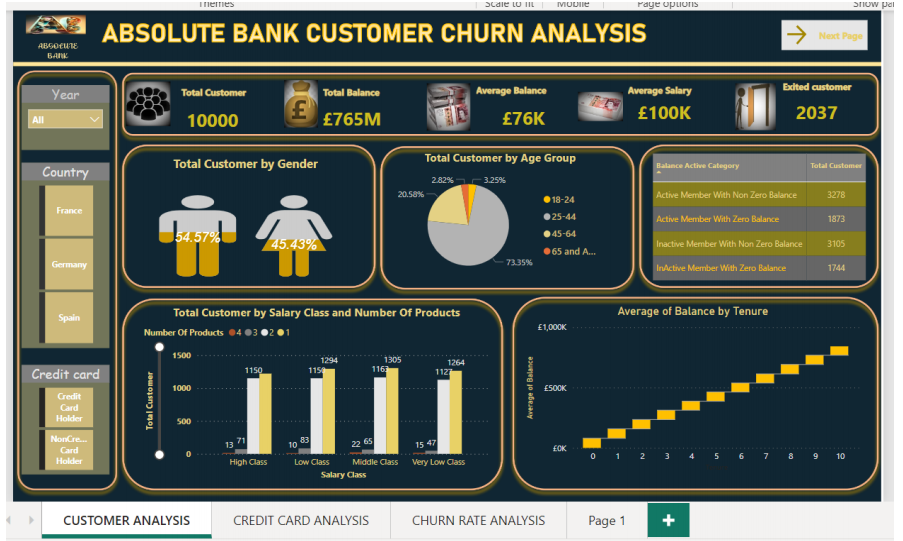

Layout of this report page (visuals, bound fields, positions):
{"tool":"powerbi","page":{"name":"CUSTOMER ANALYSIS","canvas":[1280,720],"ordinal":0},"visuals":[{"type":"slicer","title":"Year","fields":{"Values":["Date Master.Year"]},"box":[12.5,109.3,129.6,95.3],"z":0},{"type":"card","fields":{"Values":["All calculations.Total Customer"]},"box":[243.8,136.1,98.3,47.2],"z":0,"group":"g6"},{"type":"textbox","box":[236.2,104,119.1,28.3],"z":1000,"group":"g6"},{"type":"PBI_CV_73744D90_4DC9_4F18_8BA5_EE8FA5C98035","title":"Total Customer by Gender ","fields":{"Values":["All calculations.Total Customer"],"Category":["Gender.Gender Category"]},"box":[187.4,212.4,309.2,190.5],"z":1000},{"type":"image","box":[160.6,96.4,75.6,79.4],"z":2000,"group":"g2"},{"type":"pieChart","title":"Total Customer by Age Group","fields":{"Category":["Churn_Modelling.Age Group"],"Y":["All calculations.Total Customer"]},"box":[553.7,204.1,325,198.4],"z":2000},{"type":"card","fields":{"Values":["All calculations.Average Salary"]},"box":[899.6,127,115.6,47],"z":3000,"group":"g7"},{"type":"waterfallChart","fields":{"Category":["Churn_Modelling.Tenure"],"Y":["Avg(Churn_Modelling.Balance)"]},"box":[749.7,431.1,501.3,249.9],"z":3000},{"type":"card","fields":{"Values":["All calculations.Exited Customers"]},"box":[1124.5,127,115.6,47],"z":4000,"group":"g5"},{"type":"tableEx","fields":{"Values":["Balance Active Member.Balance Active Category","All calculations.Total Customer"]},"box":[935.5,204.6,345.2,196.8],"z":4000},{"type":"textbox","box":[899.6,102,124.9,29.7],"z":5000,"group":"g7"},{"type":"slicer","title":"Country","fields":{"Values":["Country.Country Category"]},"box":[12.5,223.3,129.6,271.8],"z":5000},{"type":"textbox","box":[442.2,104,111.5,28.3],"z":6000,"group":"g1"},{"type":"slicer","title":"Credit card","fields":{"Values":["Credit Card.Credit Category"]},"box":[12.5,520.1,129.6,160.9],"z":6000},{"type":"group","id":"g1","title":"Group 2","box":[385.5,96.4,168.2,86.9],"z":7000},{"type":"textbox","box":[1127.6,96.8,123.4,32.8],"z":7000,"group":"g5"},{"type":"group","id":"g2","title":"Group 3","box":[160.6,96.4,194.6,86.9],"z":8000},{"type":"card","fields":{"Values":["All calculations.Total Balance"]},"box":[442.2,136.1,111.5,47.2],"z":8000,"group":"g1"},{"type":"group","id":"g3","title":"Group 4","box":[602.9,101.5,204.6,79.7],"z":9000},{"type":"card","fields":{"Values":["All calculations.Average Balance"]},"box":[693.8,138,113.7,41.5],"z":9000,"group":"g3"},{"type":"group","id":"g4","title":"Group 6","box":[825.8,102,198.8,78.1],"z":10000},{"type":"textbox","box":[676.5,102.3,128.1,34.4],"z":10000,"group":"g3"},{"type":"image","box":[385.5,96.4,75.6,79.4],"z":11000,"group":"g1"},{"type":"group","id":"g5","title":"Group 7","box":[1054.5,96.8,196.5,84.2],"z":11000},{"type":"actionButton","box":[1130.8,14.1,126.5,43.7],"z":12000},{"type":"image","box":[825.8,102,76.5,78.1],"z":12000,"group":"g4"},{"type":"image","box":[602.9,101.5,75.8,79.7],"z":13000,"group":"g3"},{"type":"clusteredColumnChart","fields":{"Category":["Churn_Modelling.Salary Class"],"Y":["All calculations.Total Customer"],"Series":["Churn_Modelling.Number Of Products"]},"box":[187.4,431.1,518.5,262.4],"z":13000},{"type":"image","box":[1054.5,102,76,79],"z":17000,"group":"g5"},{"type":"group","id":"g6","title":"Group 1","box":[236.2,104,119.1,79.4],"z":22001,"group":"g2"},{"type":"group","id":"g7","title":"Group 5","box":[899.6,102,124.9,72],"z":22005,"group":"g4"}]}

Visuals, with their boxes on the page's 1280x720 design canvas (x1, y1, x2, y2). These are canvas units, not pixel positions in the 903x541 screenshot, which may show the page scaled, cropped or inside an application window:
"Year" slicer: 12 109 142 205
card - All calculations.Total Customer: 244 136 342 183
textbox: 236 104 355 132
"Total Customer by Gender " PBI_CV_73744D90_4DC9_4F18_8BA5_EE8FA5C98035: 187 212 497 403
image: 161 96 236 176
"Total Customer by Age Group" pieChart: 554 204 879 402
card - All calculations.Average Salary: 900 127 1015 174
waterfallChart - Churn_Modelling.Tenure x Avg(Churn_Modelling.Balance): 750 431 1251 681
card - All calculations.Exited Customers: 1124 127 1240 174
tableEx - Balance Active Member.Balance Active Category x All calculations.Total Customer: 936 205 1281 401
textbox: 900 102 1024 132
"Country" slicer: 12 223 142 495
textbox: 442 104 554 132
"Credit card" slicer: 12 520 142 681
"Group 2" group: 386 96 554 183
textbox: 1128 97 1251 130
"Group 3" group: 161 96 355 183
card - All calculations.Total Balance: 442 136 554 183
"Group 4" group: 603 102 808 181
card - All calculations.Average Balance: 694 138 808 180
"Group 6" group: 826 102 1025 180
textbox: 676 102 805 137
image: 386 96 461 176
"Group 7" group: 1054 97 1251 181
actionButton: 1131 14 1257 58
image: 826 102 902 180
image: 603 102 679 181
clusteredColumnChart - Churn_Modelling.Salary Class x All calculations.Total Customer: 187 431 706 694
image: 1054 102 1130 181
"Group 1" group: 236 104 355 183
"Group 5" group: 900 102 1024 174
